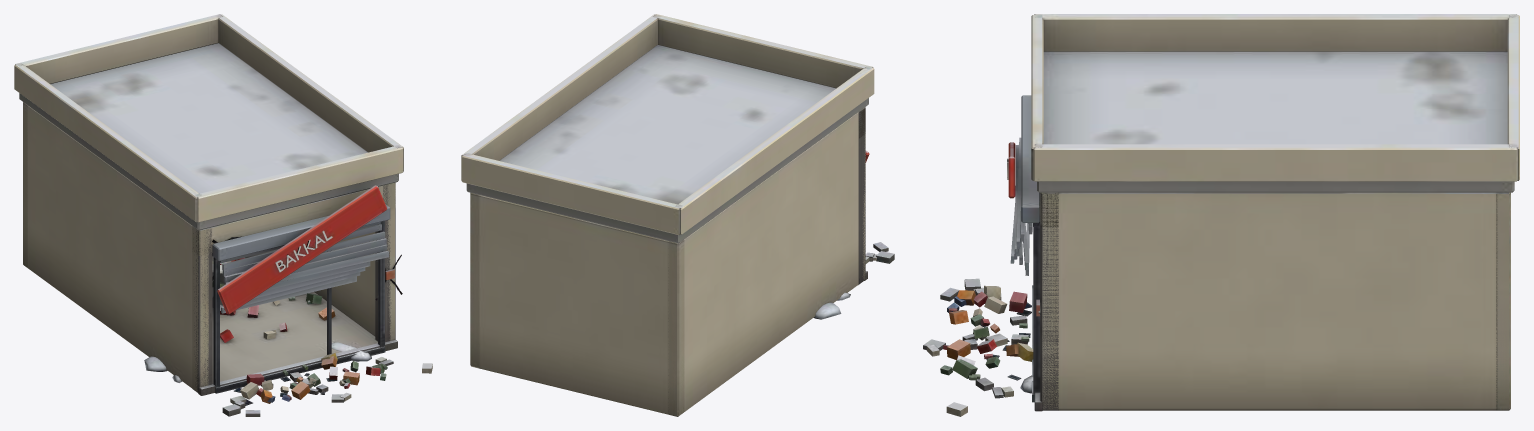
File: bld_shop_bakkal.glb
The picture shows the model from 3 angles, left to right: view 1: azimuth 30°, elevation 25°; view 2: azimuth 150°, elevation 25°; view 3: azimuth 270°, elevation 25°; orthographic projection. The views are drawn at different scales.
Parts seen in each view (by area): view 1: bld_shop_bakkal; view 2: bld_shop_bakkal; view 3: bld_shop_bakkal.
Boxes of the visible parts, x1,y1,x2,y2 form: bld_shop_bakkal: [14, 14, 432, 416]; bld_shop_bakkal: [461, 14, 894, 416]; bld_shop_bakkal: [923, 14, 1519, 416].
Size of the model in its own units: 4.98 by 5.02 by 8.87.
1 material, 1 textured.
